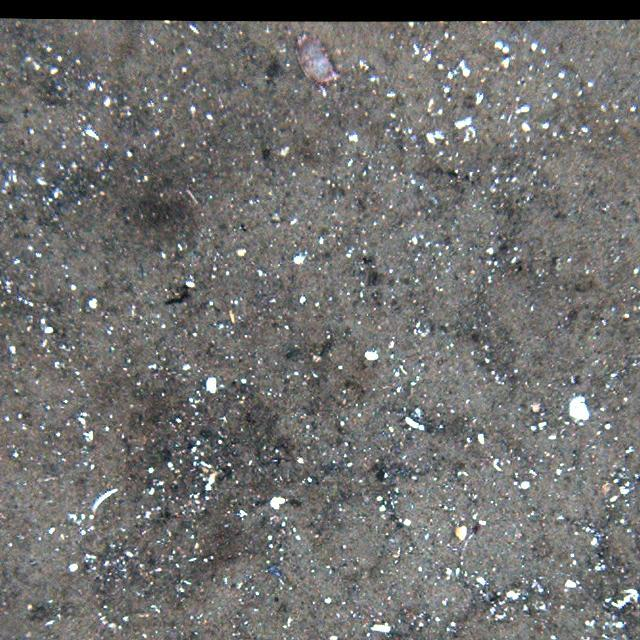crab: (292, 32, 342, 94)
